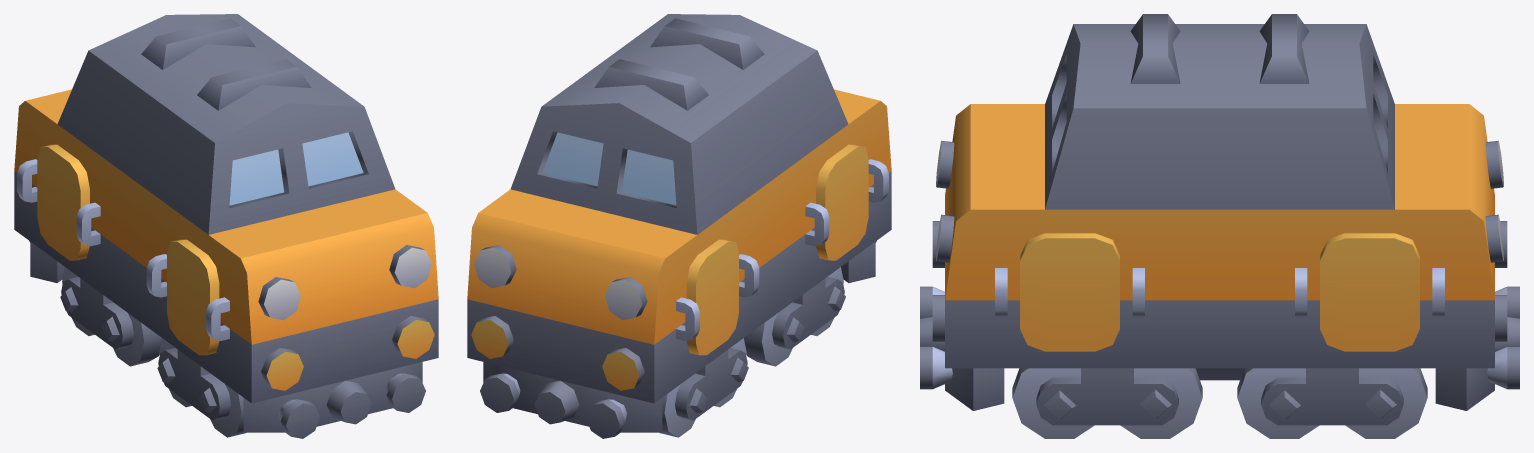
File: kenney-train-train-diesel-a.glb
3 views of the same model, side by side, from view 1: azimuth 30°, elevation 25°; view 2: azimuth 150°, elevation 25°; view 3: azimuth 270°, elevation 25° (orthographic). The views are drawn at different scales.
Parts seen in each view (by area): view 1: train-diesel-a; view 2: train-diesel-a; view 3: train-diesel-a.
Part boxes in pixels (x1,y1,x2,y2): train-diesel-a: (14, 14, 438, 438); train-diesel-a: (467, 14, 891, 438); train-diesel-a: (920, 14, 1519, 438).
Bounding box in the file's own units: 1.2 × 1.6 × 2.4.
Materials: 1 (1 with a texture image).
